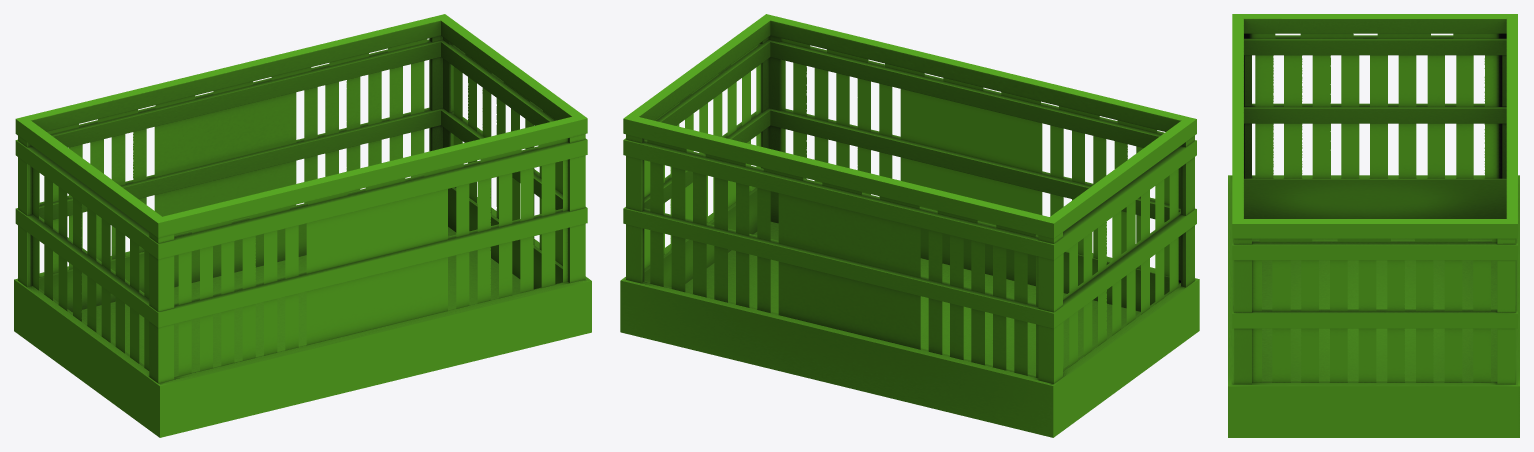
The model's file is basketA.fbx.
3 views of the same model, side by side, from view 1: azimuth 30°, elevation 25°; view 2: azimuth 150°, elevation 25°; view 3: azimuth 270°, elevation 25° (orthographic).
Parts seen in each view (by area): view 1: BasketA1; view 2: BasketA1; view 3: BasketA1.
Boxes of the visible parts, x1=… form: BasketA1: x1=14, y1=14, x2=591, y2=437; BasketA1: x1=620, y1=14, x2=1199, y2=437; BasketA1: x1=1228, y1=14, x2=1519, y2=437.
Size of the model in its own units: 8.72 by 4.11 by 5.1.
Materials: 1 (1 with a texture image).
